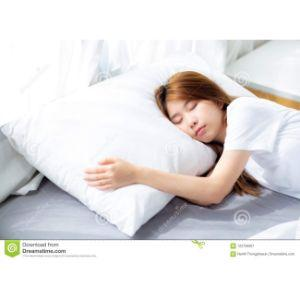sleep: (85, 70, 300, 208), (169, 101, 212, 139)
